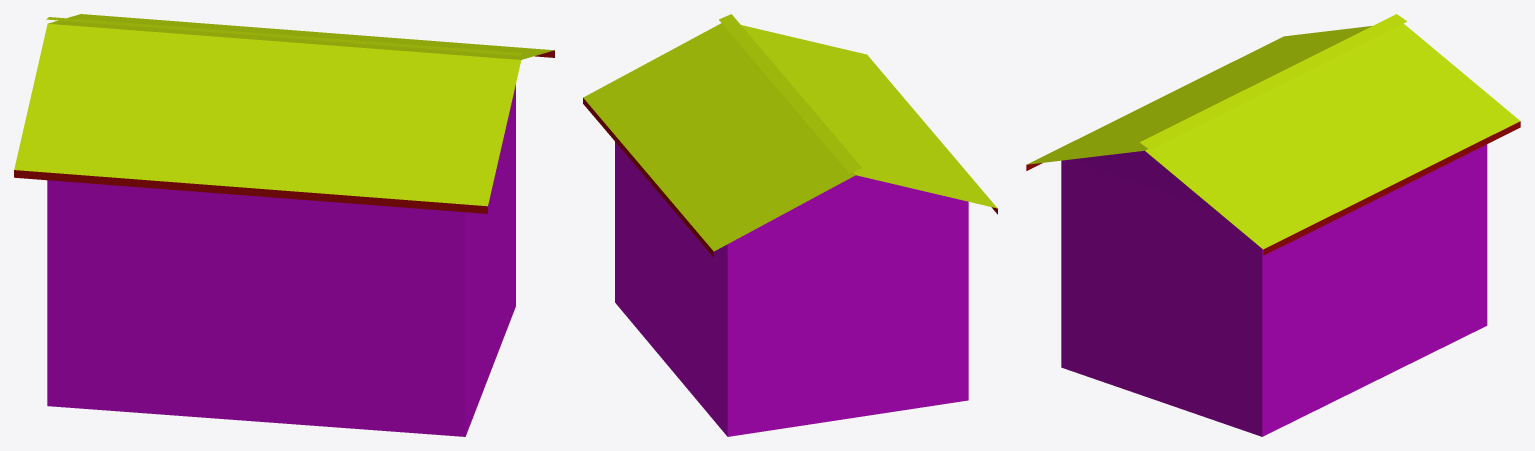
Rendered from bgj_185.glb.
3 renders of one model, left to right at view 1: azimuth 30°, elevation 25°; view 2: azimuth 150°, elevation 25°; view 3: azimuth 270°, elevation 25°, orthographic. The views are drawn at different scales.
Parts seen in each view (by area): view 1: bgj_185; view 2: bgj_185; view 3: bgj_185.
Boxes of the visible parts, x1,y1,x2,y2 form: bgj_185: (14, 14, 554, 436); bgj_185: (583, 14, 997, 436); bgj_185: (1026, 14, 1520, 436).
Size of the model in its own units: 8.59 by 5 by 8.41.
